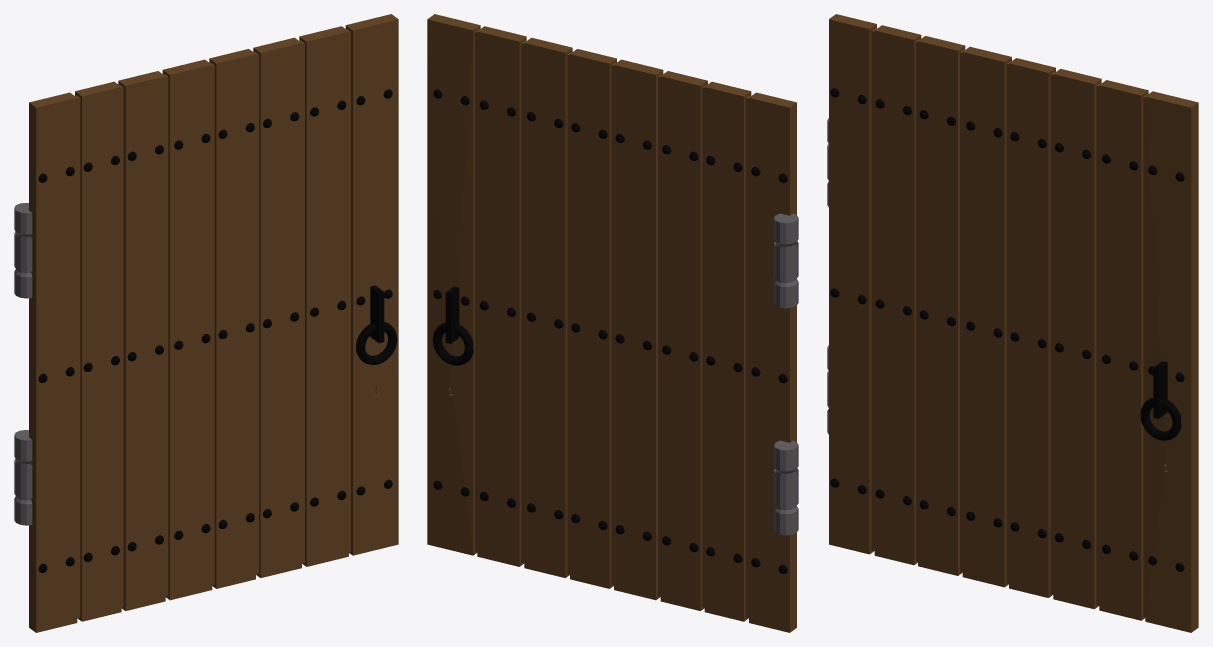
Rendered from portamadeira.fbx.
The picture shows the model from 3 angles, left to right: view 1: azimuth 30°, elevation 25°; view 2: azimuth 150°, elevation 25°; view 3: azimuth 330°, elevation 25°; orthographic projection.
Visible parts, largest first — view 1: tampabau.001; view 2: tampabau.001; view 3: tampabau.001.
Part boxes in pixels (left/top/right/bottom): tampabau.001: left=14, top=14, right=398, bottom=632; tampabau.001: left=427, top=14, right=798, bottom=632; tampabau.001: left=827, top=14, right=1198, bottom=632.
Size of the model in its own units: 134 by 180 by 16.04.
